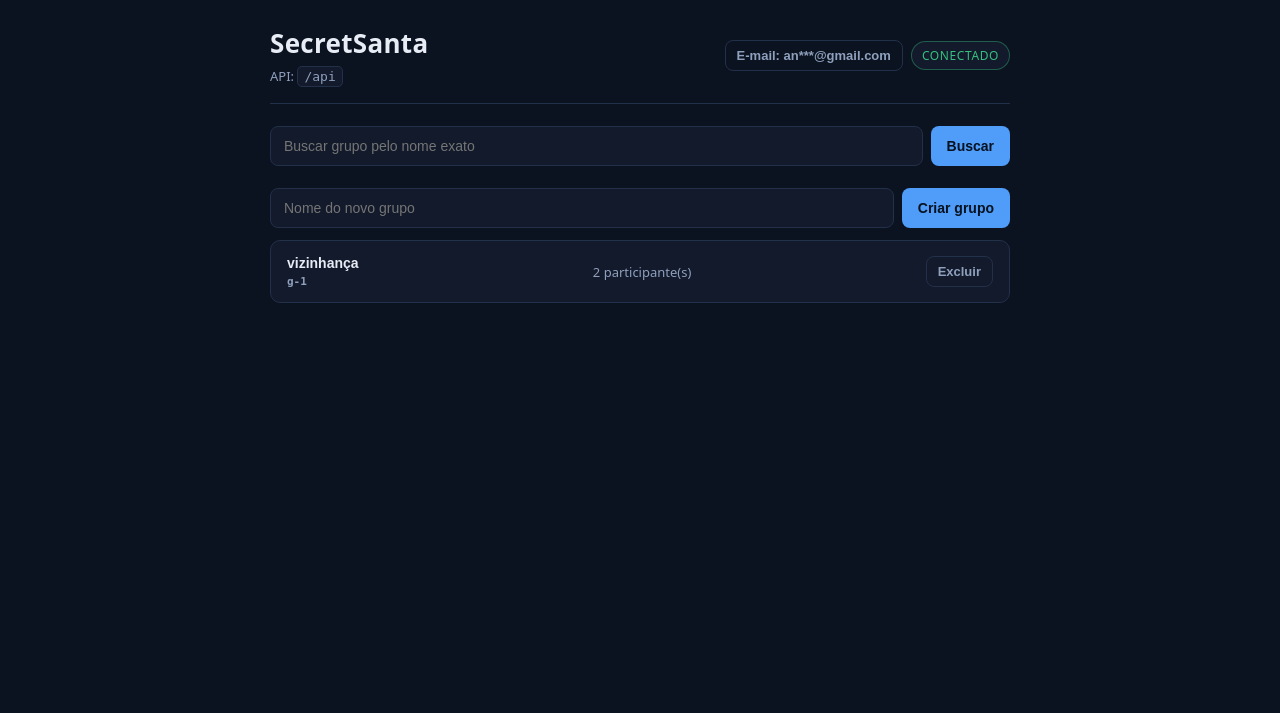
Test case: sorteio › sorteia sem enviar e-mail quando essa opcao e escolhida
Click the text "vizinhança": (323, 263) 287,255 -> 359,271
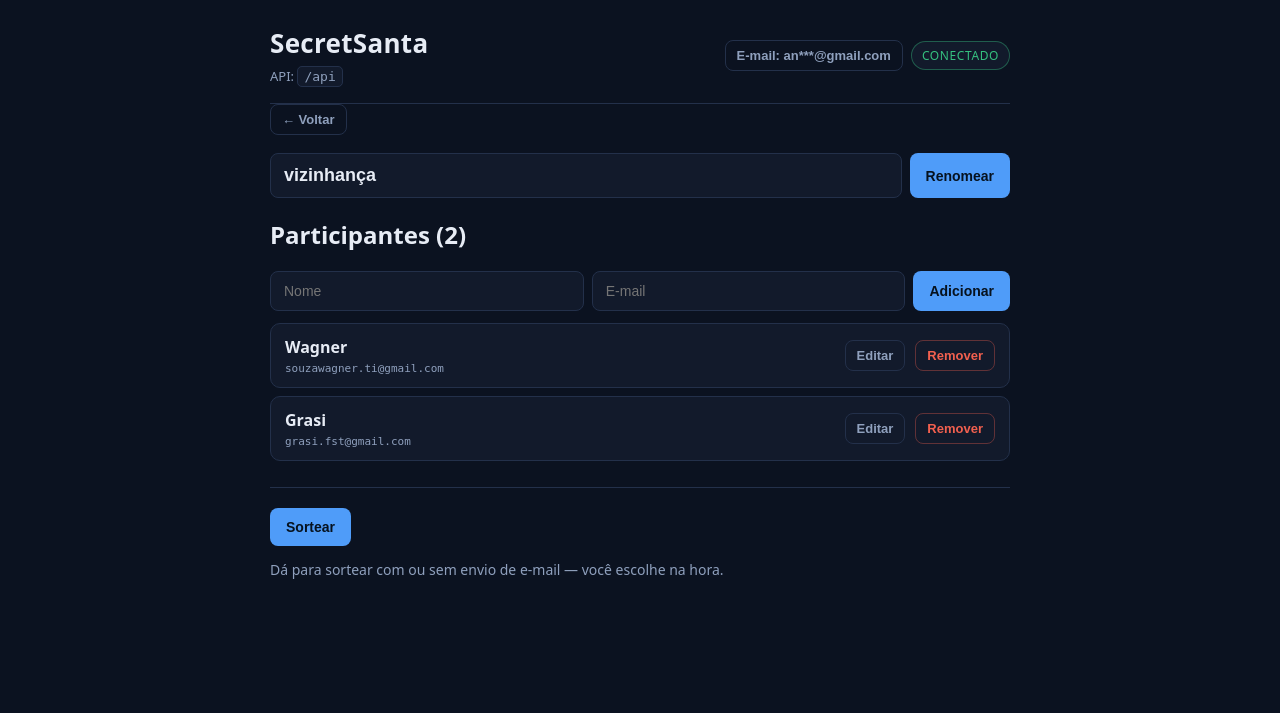
Now the text "Wagner" is shown, box 285,336 -> 347,358
Click the button "Sortear": (310, 527) 270,508 -> 351,546
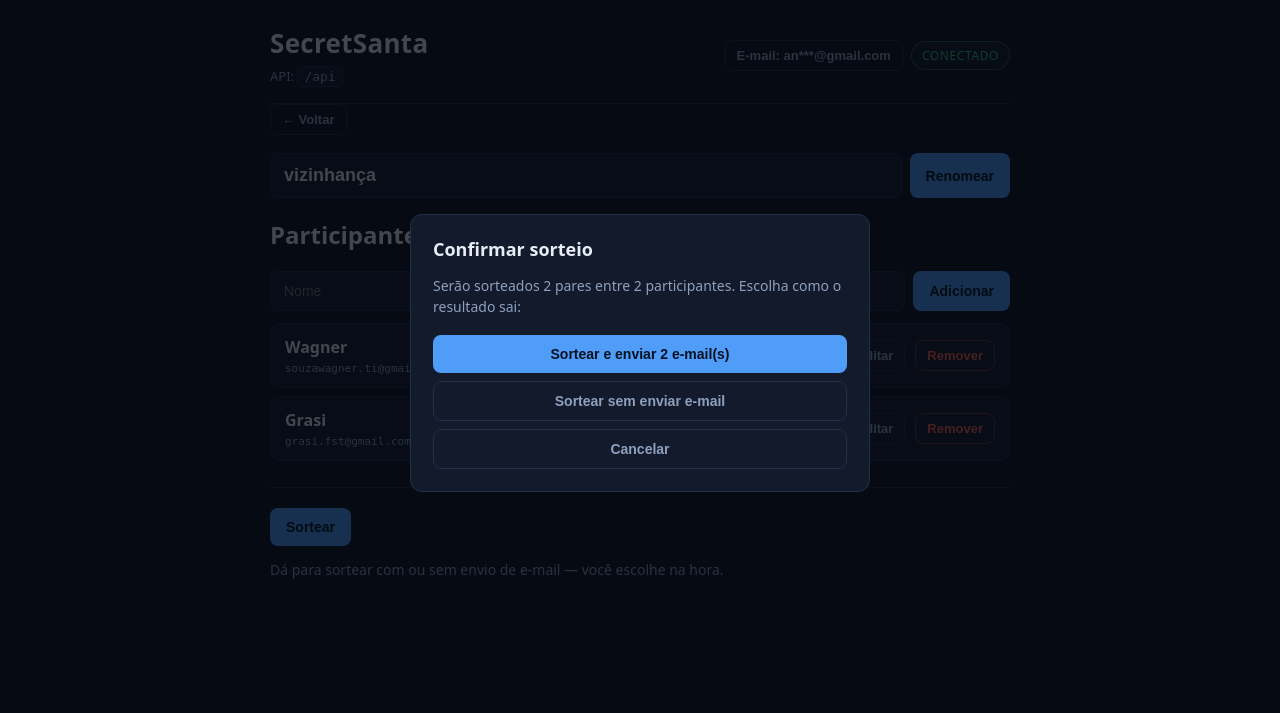
Now the heading "Confirmar sorteio" is shown, box 433,237 -> 593,261
Click the button "Sortear sem enviar e-mail": (640, 401) 433,381 -> 847,421
(page scrolled)
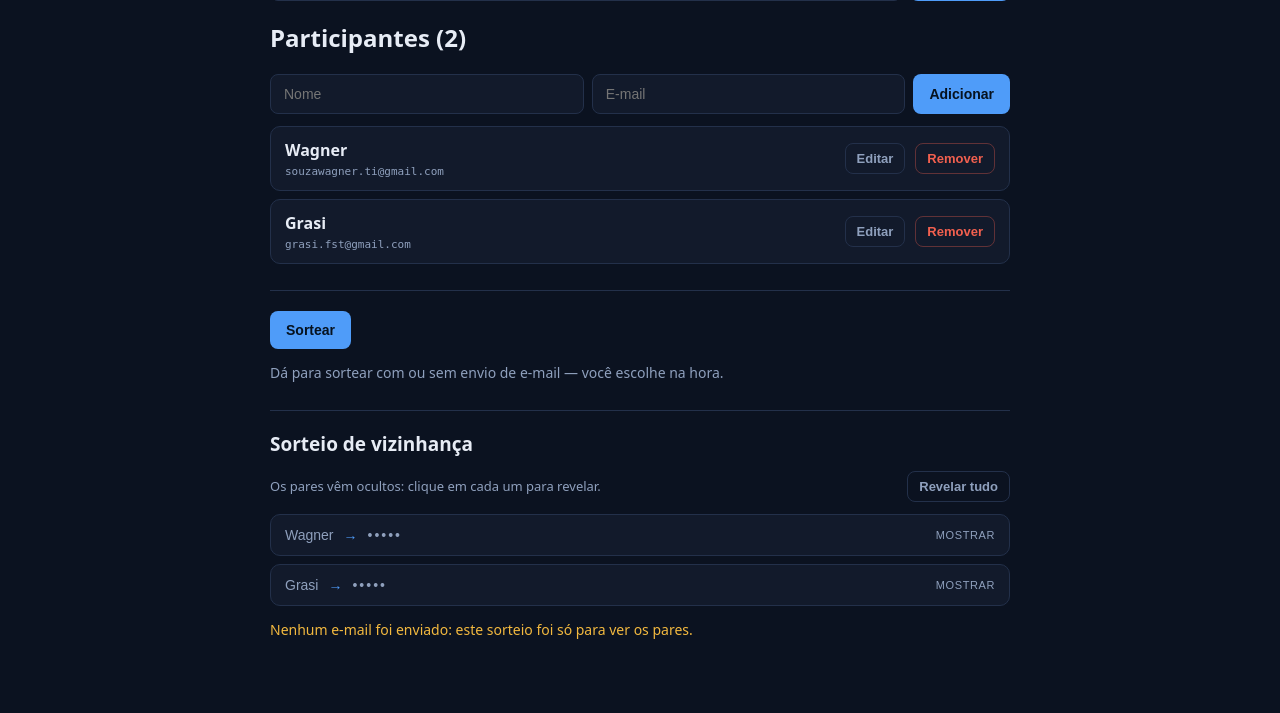
Now the text "Nenhum e-mail foi enviado: este sorteio foi só para ver os pares." is shown, box 270,620 -> 693,639
Now the text "•••••" is shown 2 times, box 368,527 -> 402,543; 352,577 -> 387,593
